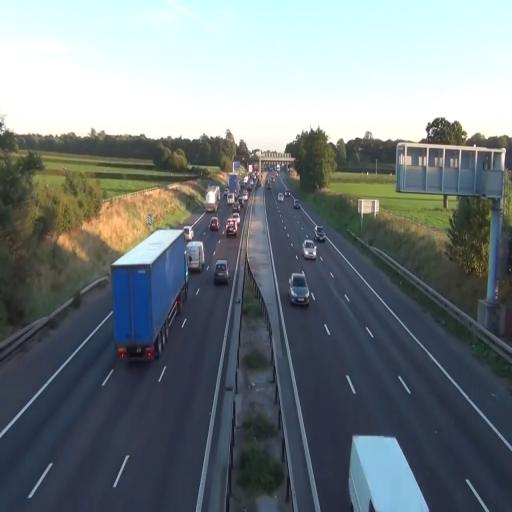vehicle: (289, 272, 310, 307), (204, 182, 220, 214), (213, 257, 229, 286), (224, 216, 240, 238), (302, 238, 317, 260), (210, 215, 220, 233), (316, 228, 327, 241)
